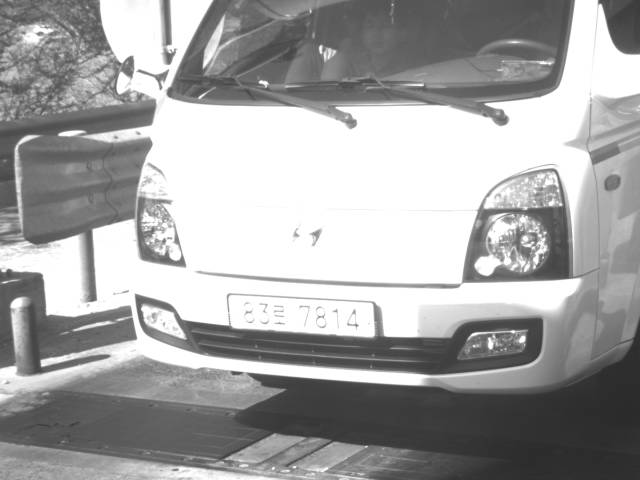car: (112, 1, 639, 400)
plate: (226, 291, 381, 342)
